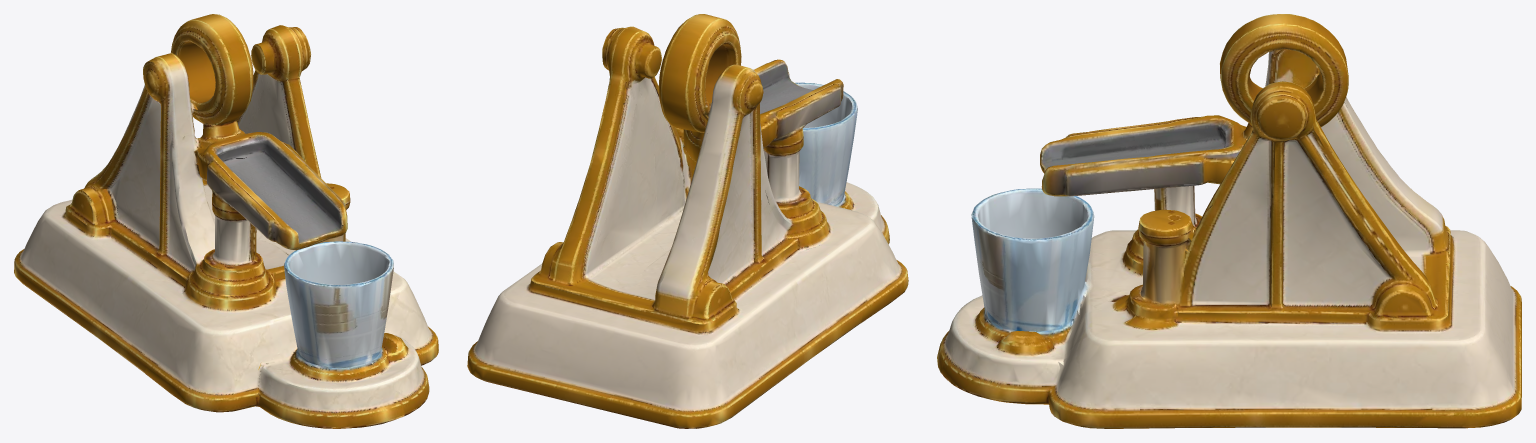
File: waterwheel-stand.glb
The picture shows the model from 3 angles, left to right: view 1: azimuth 30°, elevation 25°; view 2: azimuth 150°, elevation 25°; view 3: azimuth 270°, elevation 25°; orthographic projection. The views are drawn at different scales.
Parts seen in each view (by area): view 1: web; view 2: web; view 3: web.
Boxes of the visible parts, x1=… form: web: x1=14, y1=14, x2=438, y2=428; web: x1=467, y1=14, x2=908, y2=428; web: x1=937, y1=14, x2=1521, y2=428.
Size of the model in its own units: 0.1151 by 0.13 by 0.2049.
Materials: 1 (1 with a texture image).
